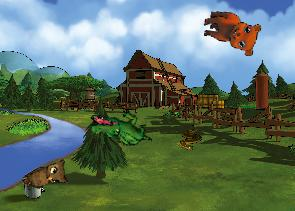bear: (199, 9, 262, 57)
crocodile: (89, 107, 152, 150)
owl: (20, 154, 74, 202)
